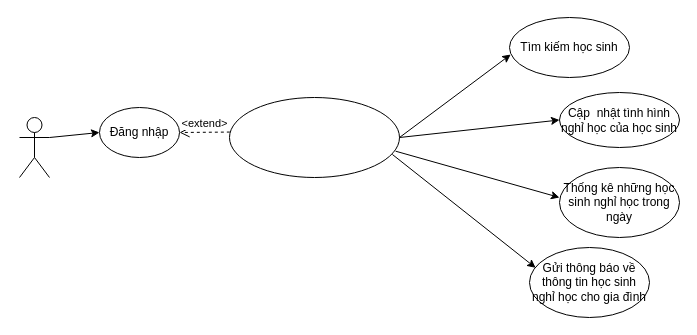
The diagram is 697 pixels wide and 335 high, and some of its shapes have lost their labels. Here are the shapes that lost their labels. From the top down, the centre of each, then its label:
[34,147]: Admin
[314,137]: Thông báo tình hình nghỉ học của học sinh
